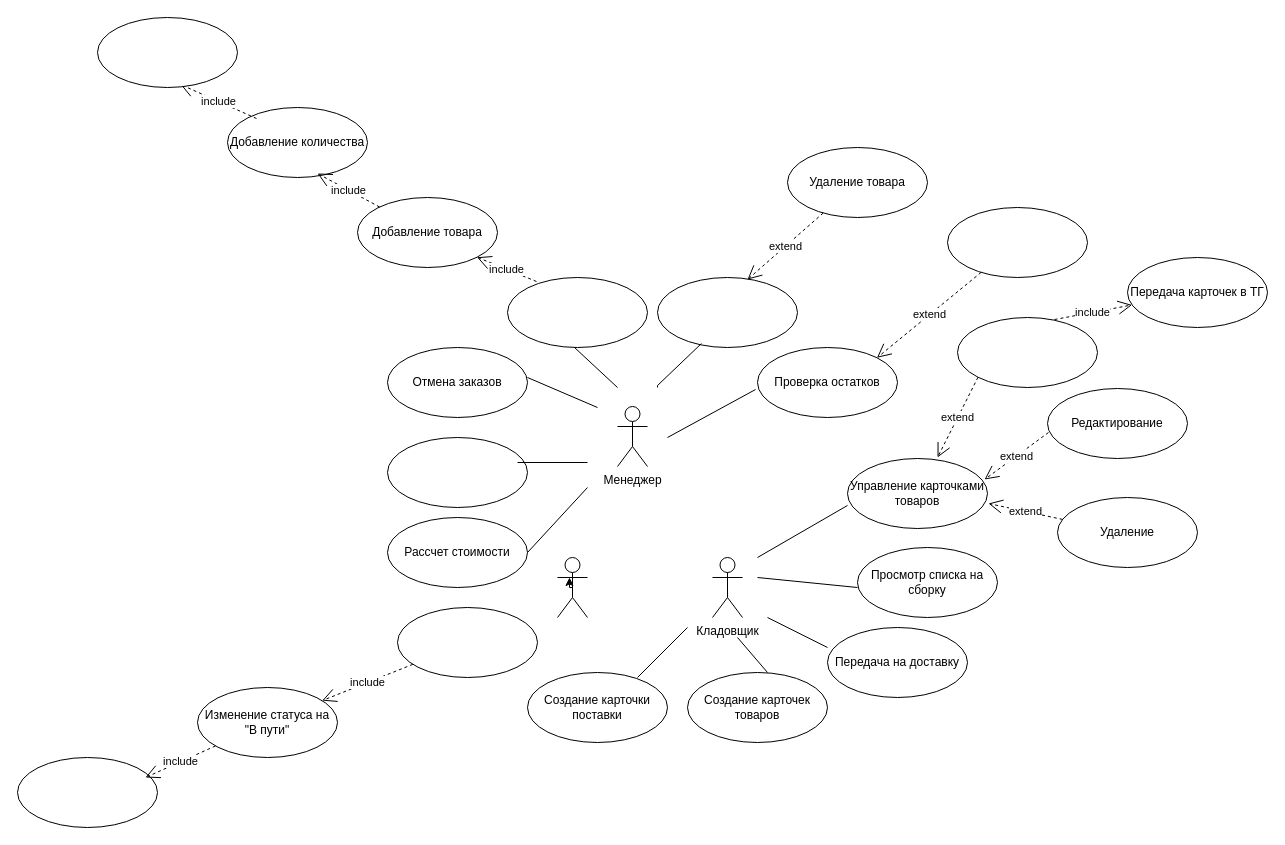
Image size: 1285x845. Some labels were removed from this diagram. The shapes that lost their labels are listed below. From the top down, each one's centre as x and y in pixels, then its label:
(x=167, y=52): Передача на сборку
(x=1017, y=242): Редактирование остатков
(x=577, y=312): Создание заказа
(x=727, y=312): Редактирование заказа
(x=1027, y=352): Создание
(x=457, y=472): Просмотр всех заказов
(x=572, y=587): Курьер
(x=467, y=642): Просмотр списка на доставку
(x=87, y=792): Изменение статуса на "Доставлен"
